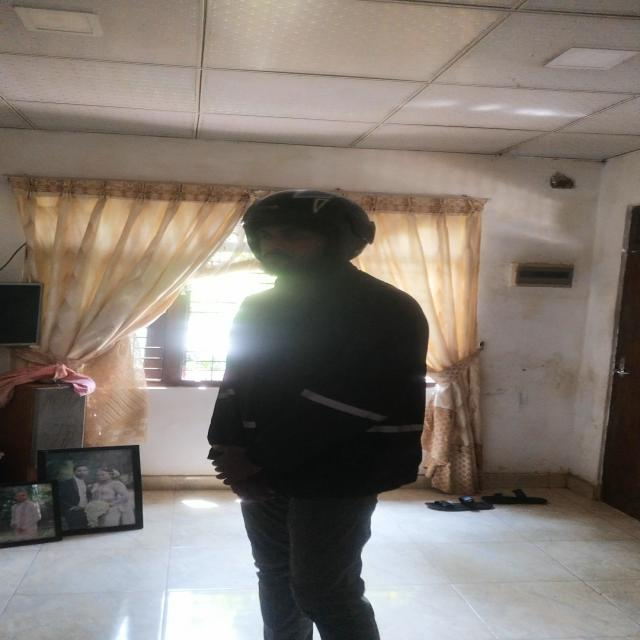Helmet_Wearer: (237, 192, 382, 292)
Jacket_Wearer: (200, 276, 428, 502)
Person: (218, 192, 437, 640)
